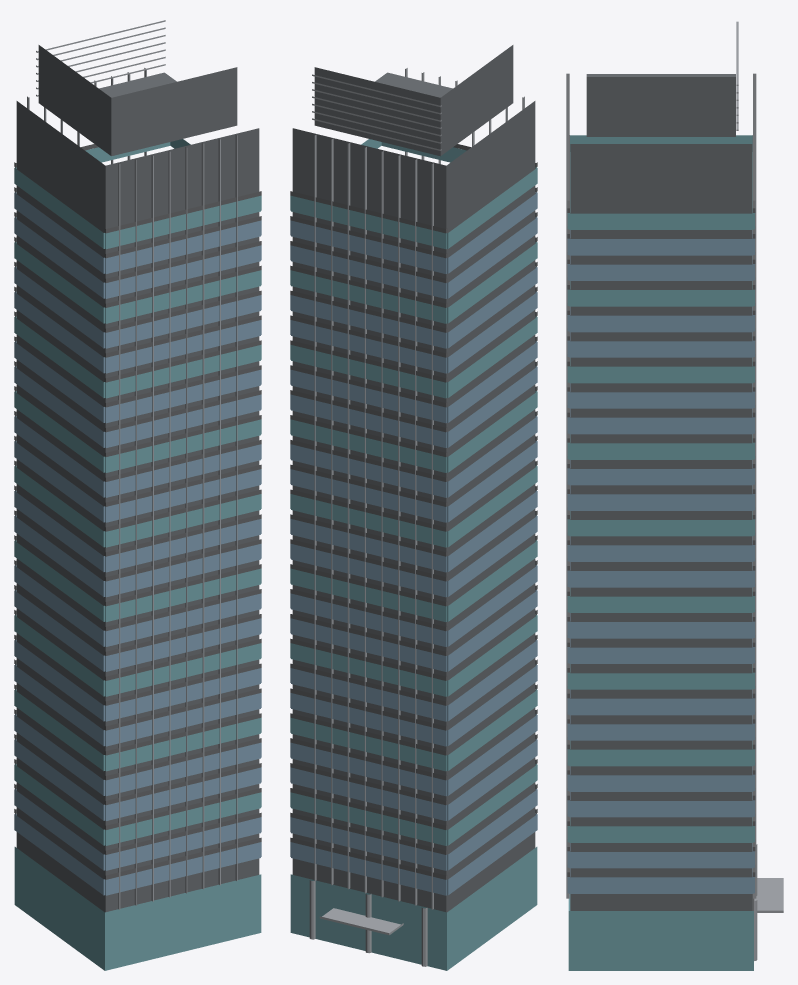
Rendered from tower_glass.glb.
The picture shows the model from 3 angles, left to right: view 1: azimuth 30°, elevation 25°; view 2: azimuth 150°, elevation 25°; view 3: azimuth 270°, elevation 25°; orthographic projection. The views are drawn at different scales.
Visible parts, largest first — view 1: Mesh; view 2: Mesh; view 3: Mesh.
Boxes of the visible parts, x1,y1,x2,y2 form: Mesh: [14, 20, 261, 970]; Mesh: [290, 45, 537, 970]; Mesh: [566, 21, 783, 970].
Size of the model in its own units: 22.6 by 118 by 26.2.
